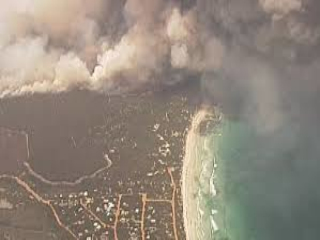smoke: (13, 28, 221, 99)
